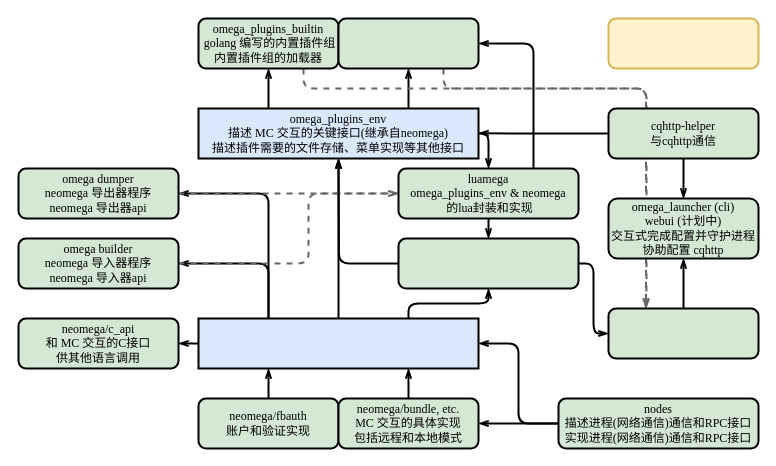
Image size: 776x466. Some labels were removed from this diagram. The shapes that lost their labels are listed below. From the top down, each one's box as (x1, y1, x2, y2) in pixels, then its label:
(337, 17, 479, 69): omega_plugins_builtin lua 编写的lua插件组 lua插件加载器和runtime
(607, 17, 759, 69): utils/i18n omega_structure_and_canvas 其他通用/辅助模块
(397, 237, 579, 289): omega_cli_frame (部分) omega_webui_frame(计划中) 实现 omega_plugins_env
(197, 317, 479, 369): neomega 描述 MC 交互的关键接口 描述进程通信和RPC接口
(607, 307, 759, 359): omega_cli_frame/omega.go 创建环境并拉起插件
